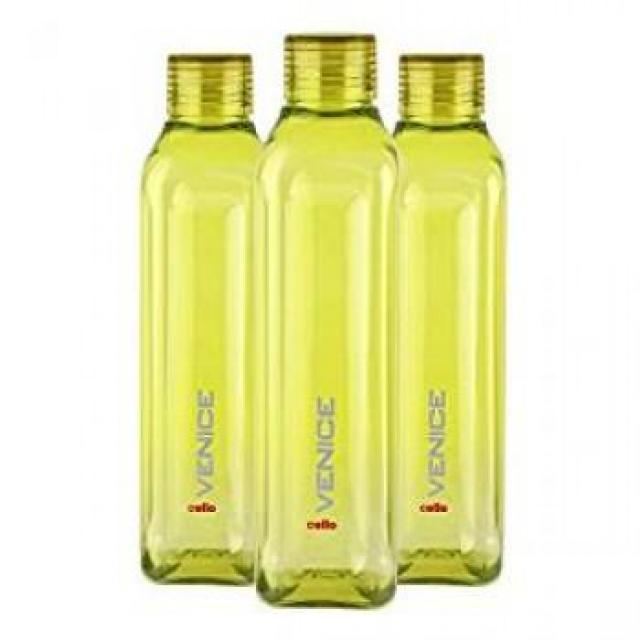plastic_bottle: (271, 47, 397, 599), (145, 67, 276, 573), (388, 59, 503, 585)
